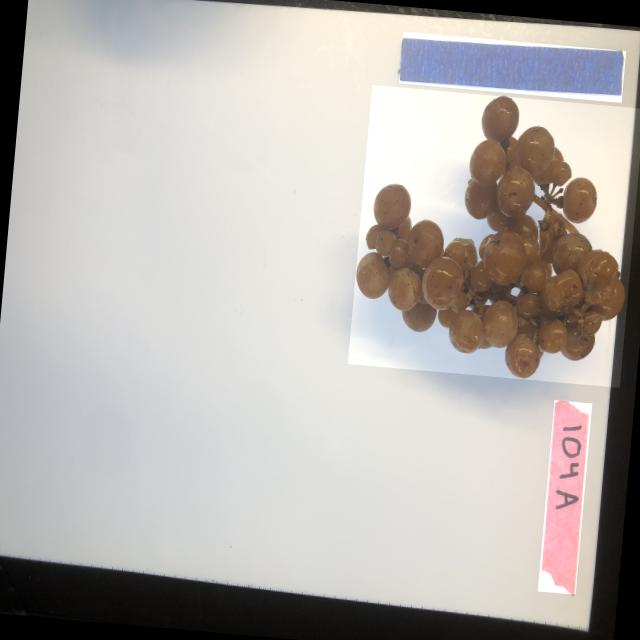grape_cluster: (346, 84, 640, 387)
index: (536, 400, 591, 594)
measure_label: (397, 32, 625, 102)
